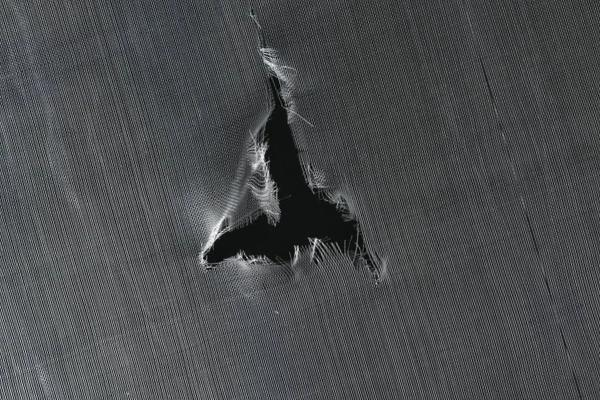hole: (195, 40, 393, 296)
